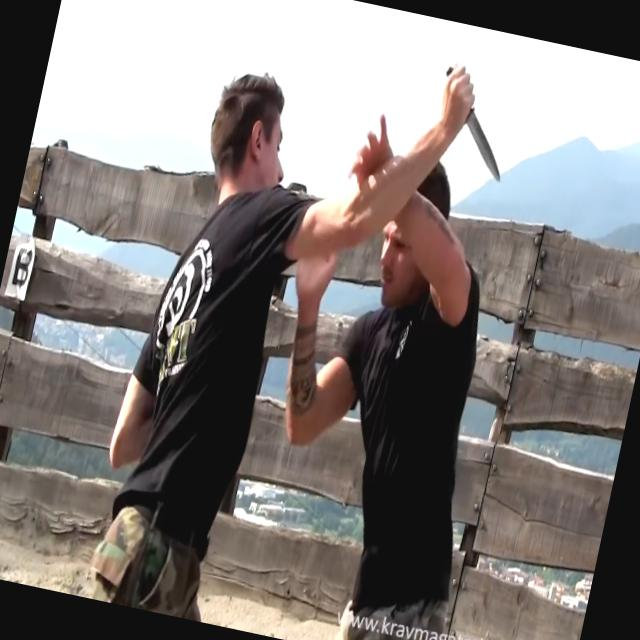knife: (419, 57, 526, 190)
